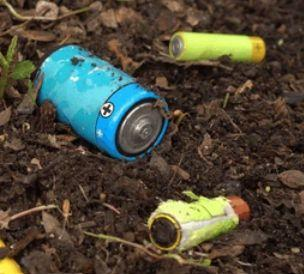battery: (31, 44, 169, 162), (147, 190, 244, 253), (168, 31, 264, 64)
